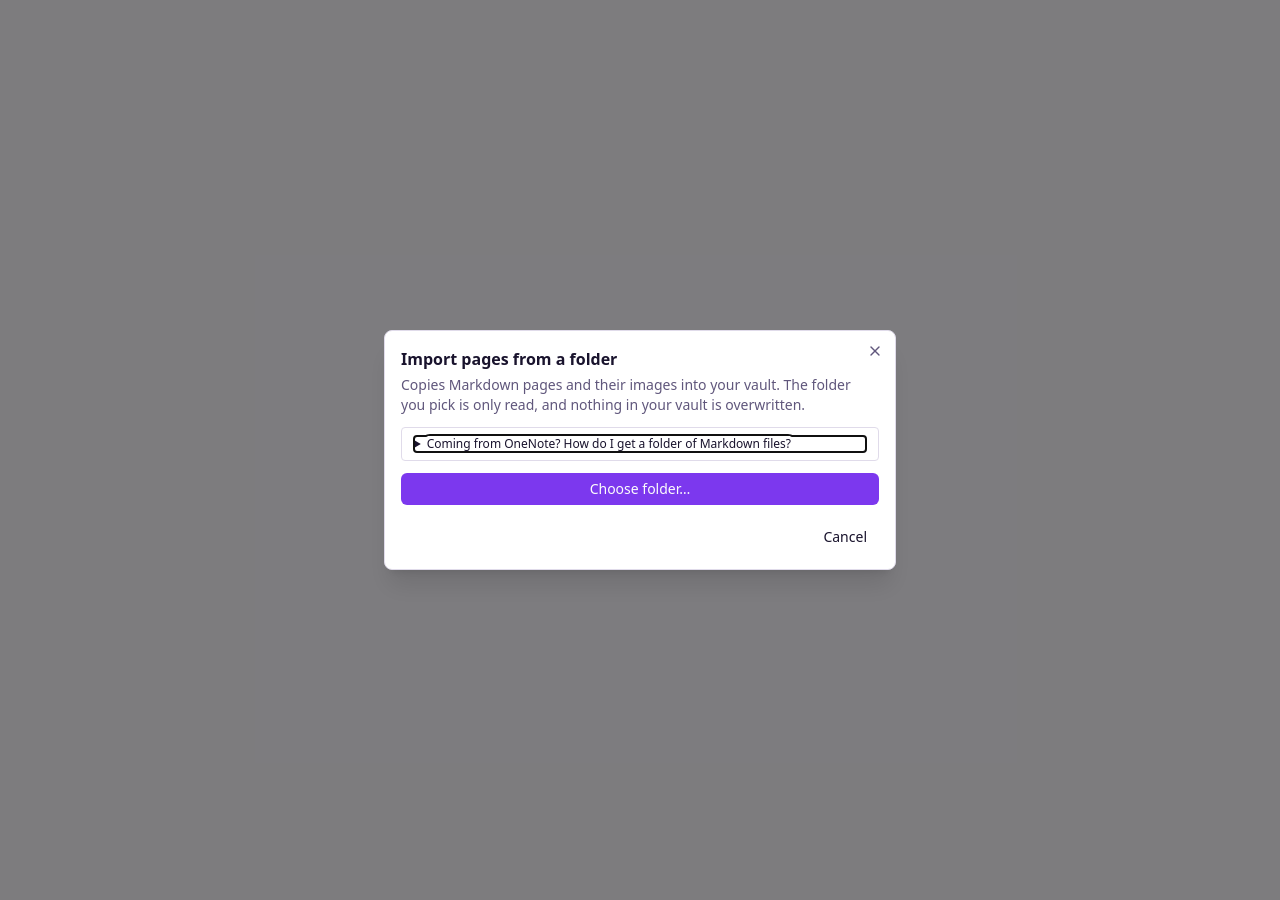
Test: ImportDialog › shows an import error and returns to the preview
The image size is (1280, 900).
Click the button "Choose folder…".
click(640, 489)  # box [401,473,879,505]
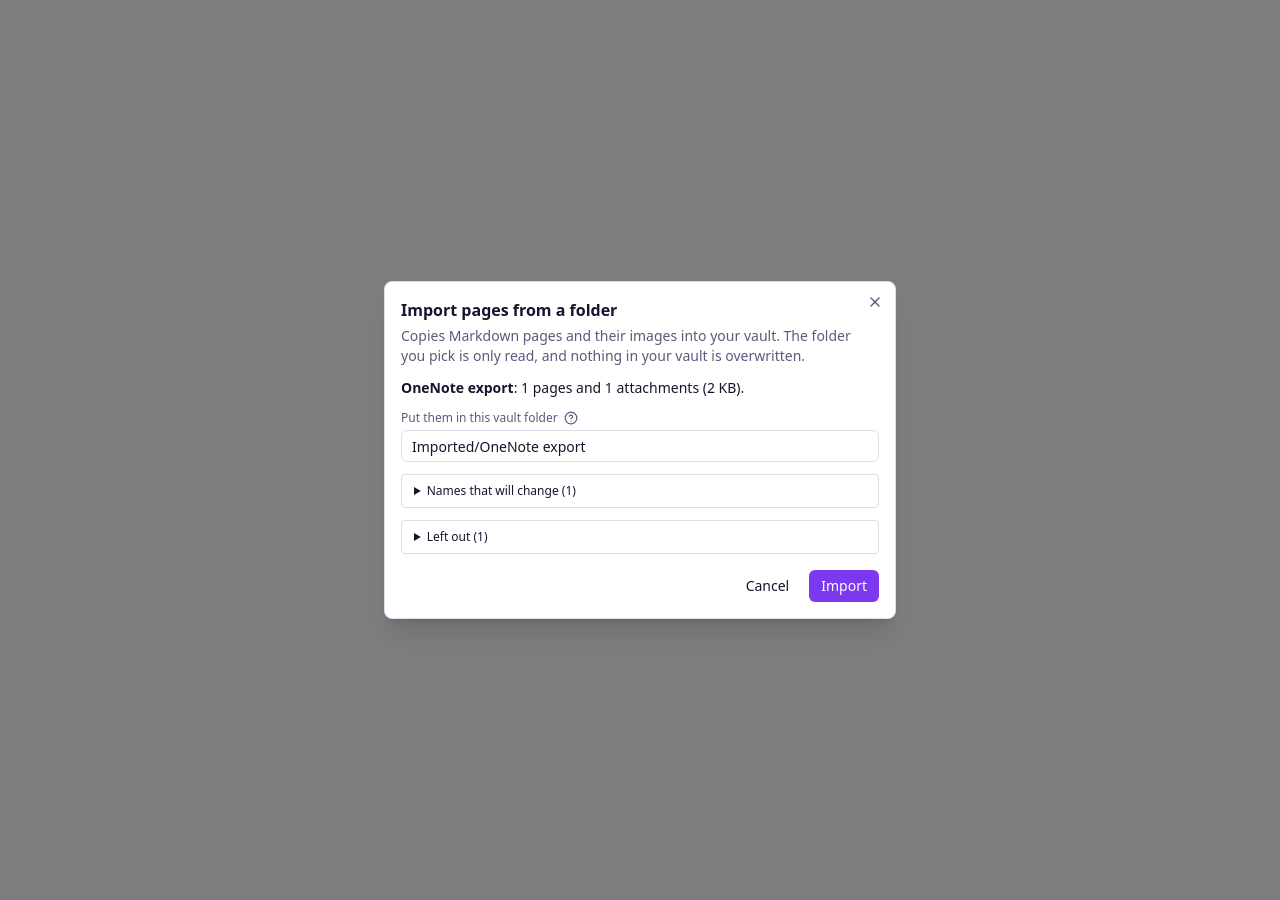
Now the text "OneNote export: 1 pages and 1 attachments (2 KB)." is shown, box [401,378,744,397]
Click the button "Import".
click(844, 586)  # box [809,570,879,602]
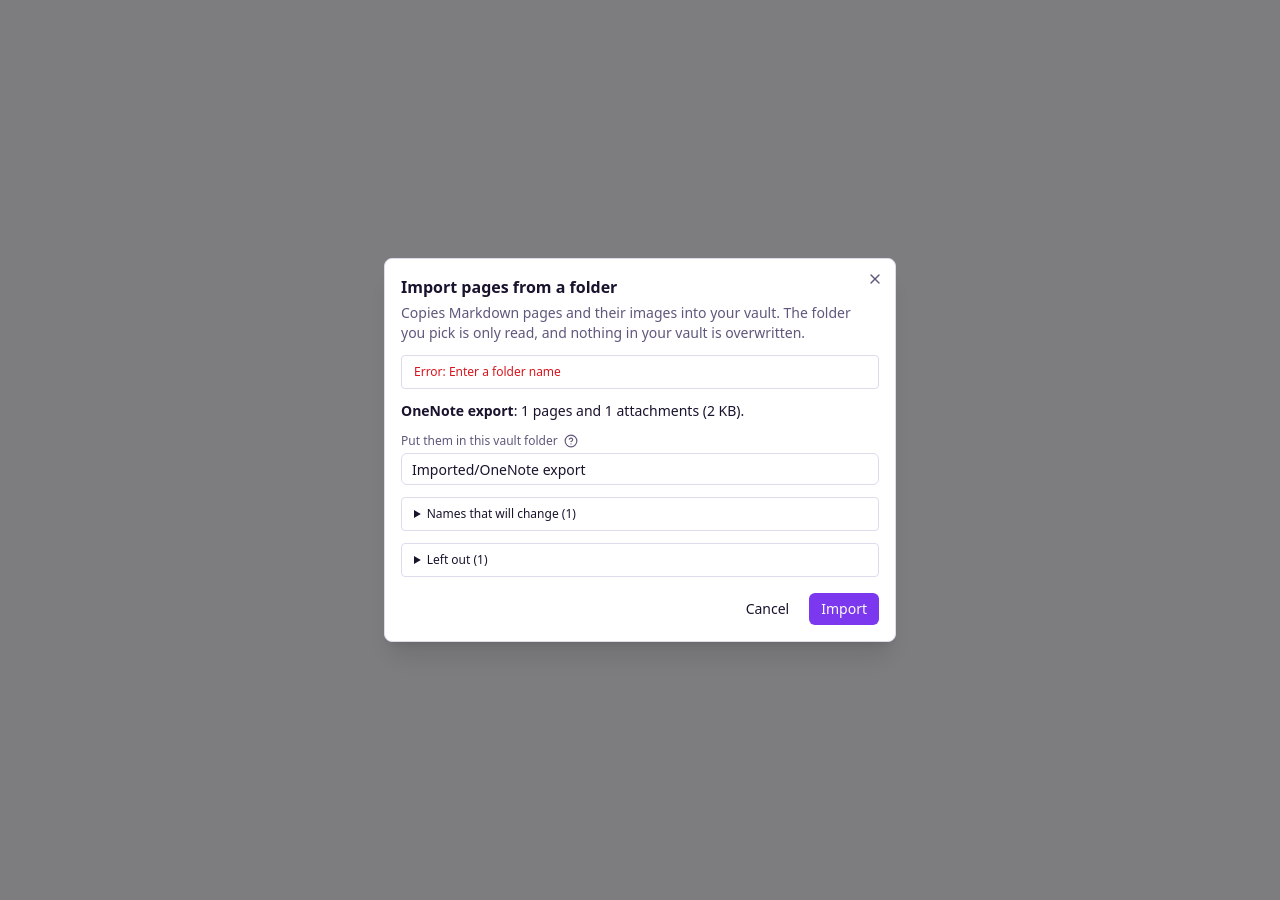
Now the button "Import" is enabled, box [809,593,879,625]
Now the message shows "Enter a folder name", box [414,363,561,380]
